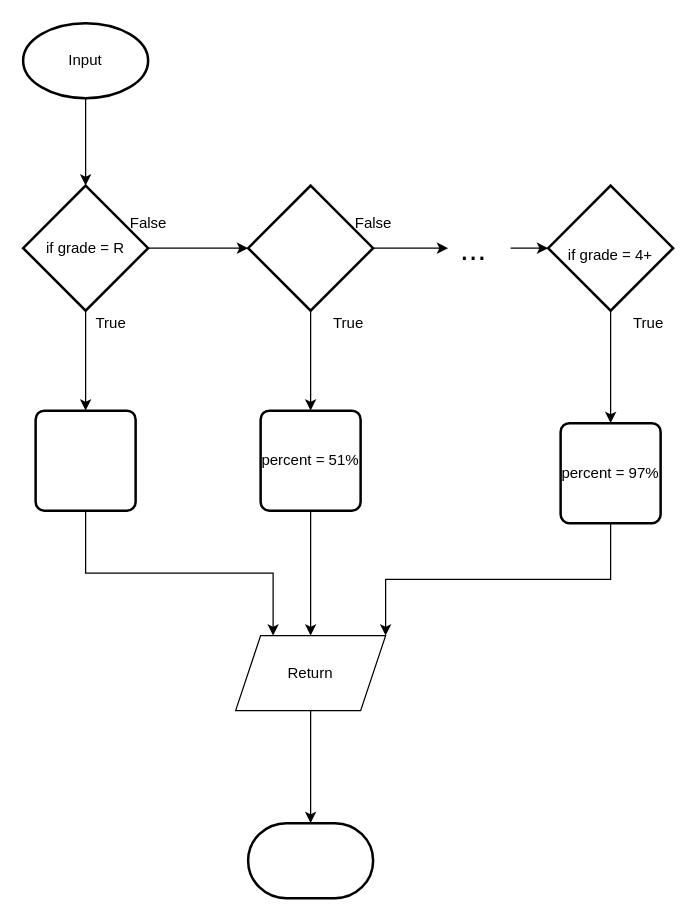
Image size: 695x920. Some labels were removed from this diagram. The shapes that lost their labels are listed below. From the top down, each one's box as (x1, y1, x2, y2) in pixels, then its label:
(246, 184, 374, 311): if grade = 1-
(34, 409, 136, 511): percent = 30%
(246, 821, 374, 899): rest of program
